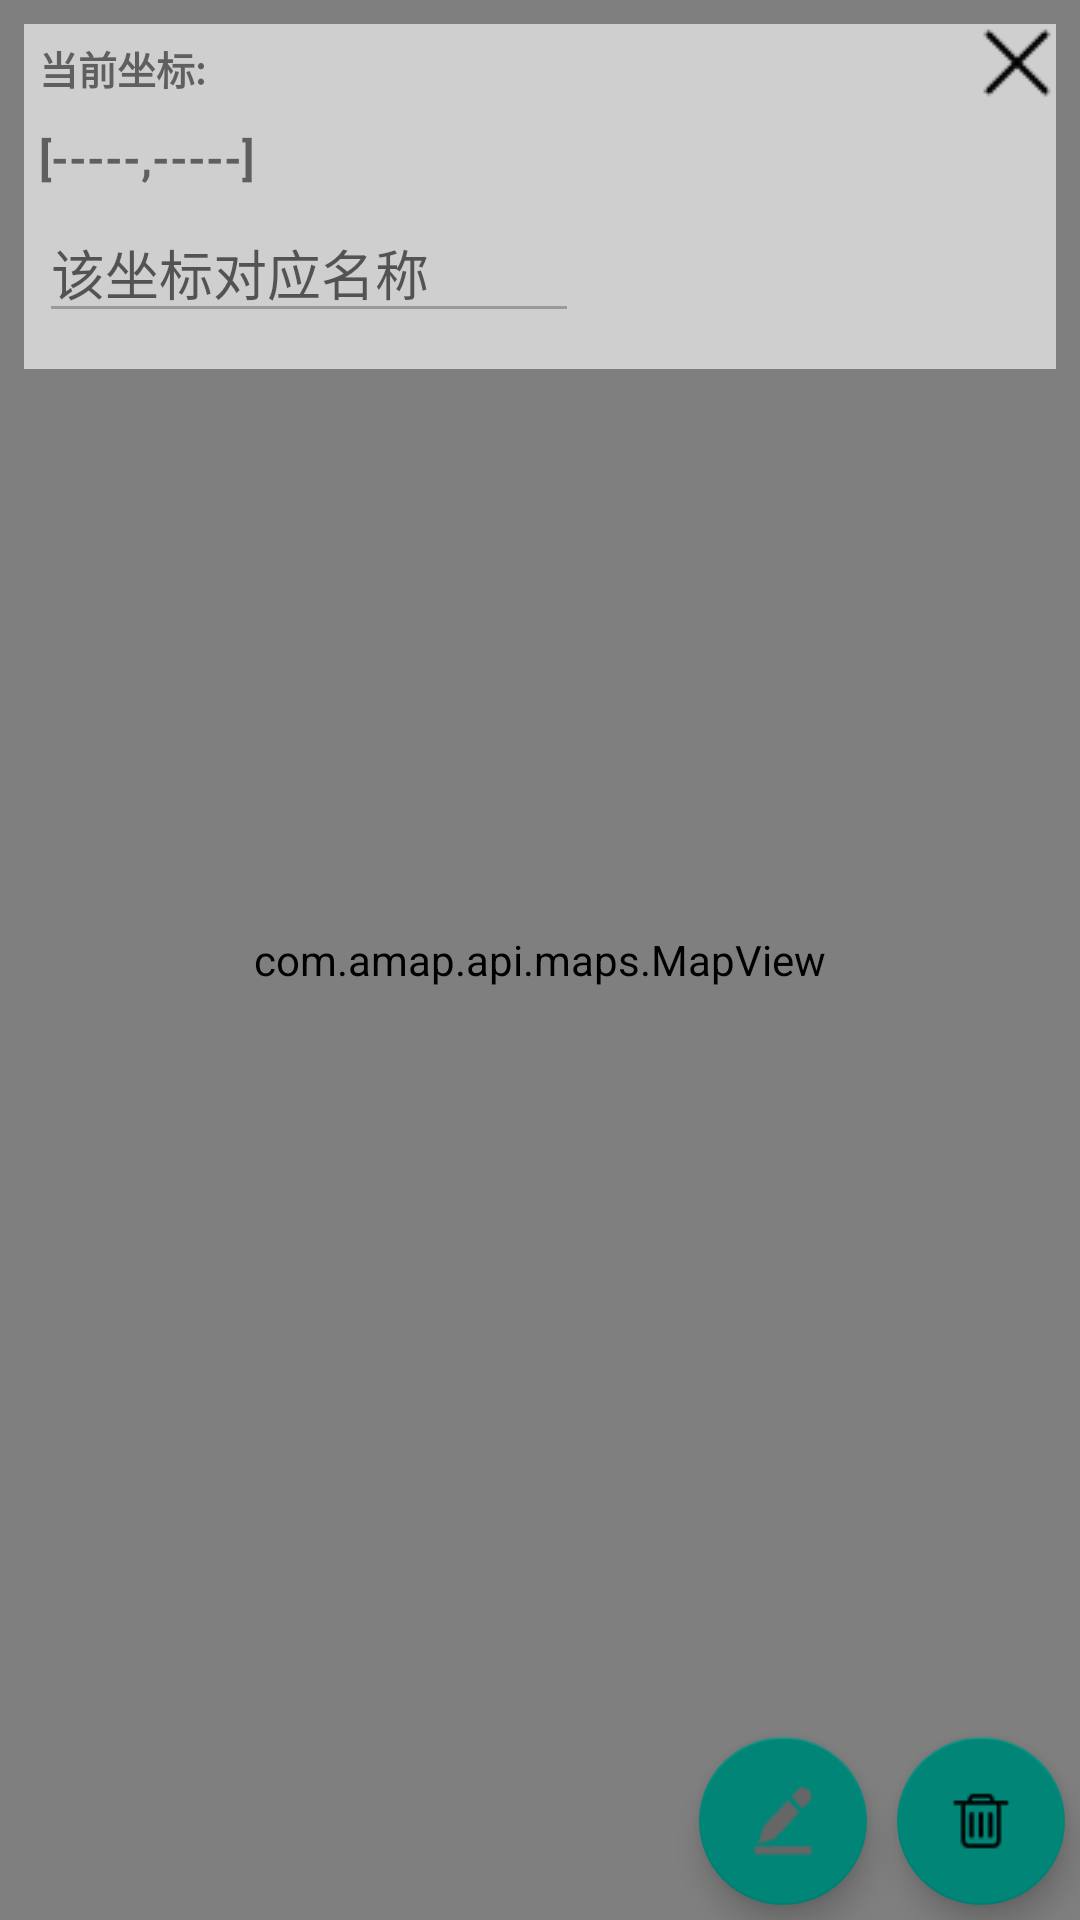

Icons on this 1080x1920 Android screen, each with the point to tap as (x=x, y=y):
delete: (x=981, y=1821)
edit: (x=783, y=1821)
